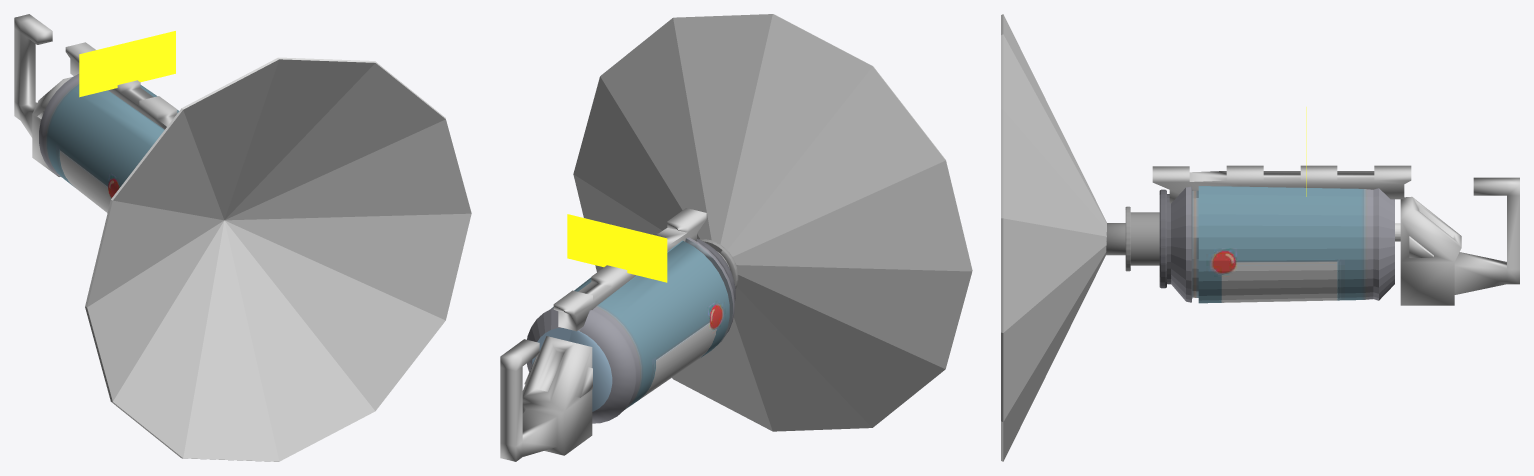
The model's file is Gun.fbx.
3 views of the same model, side by side, from view 1: azimuth 30°, elevation 25°; view 2: azimuth 150°, elevation 25°; view 3: azimuth 270°, elevation 25° (orthographic). The views are drawn at different scales.
Visible parts, largest first — view 1: Emmiser, Body, Plane1, Cube.001, Cube; view 2: Emmiser, Body, Cube.001, Plane1, Cube; view 3: Body, Emmiser, Cube.001, Cube.
Part boxes in pixels (box(x1,y1,x2,y2)): Emmiser: box(85, 57, 471, 461); Body: box(39, 74, 178, 212); Plane1: box(79, 31, 175, 97); Cube.001: box(14, 14, 72, 176); Cube: box(65, 42, 177, 129); Emmiser: box(573, 14, 972, 431); Body: box(527, 233, 738, 423); Cube.001: box(500, 336, 592, 461); Plane1: box(567, 214, 667, 282); Cube: box(553, 208, 706, 331); Body: box(1106, 186, 1394, 303); Emmiser: box(1001, 14, 1106, 461); Cube.001: box(1400, 177, 1519, 305); Cube: box(1152, 165, 1411, 203).
Bounding box in the file's own units: 371 × 371 × 428.
